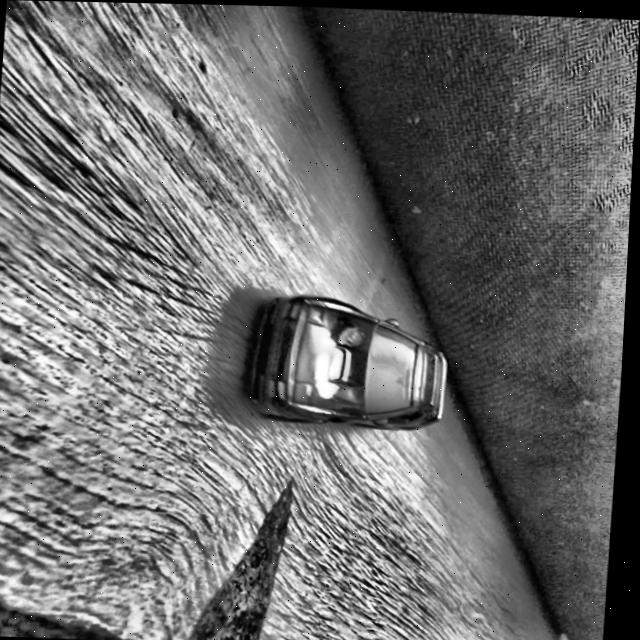car: (248, 292, 455, 430)
